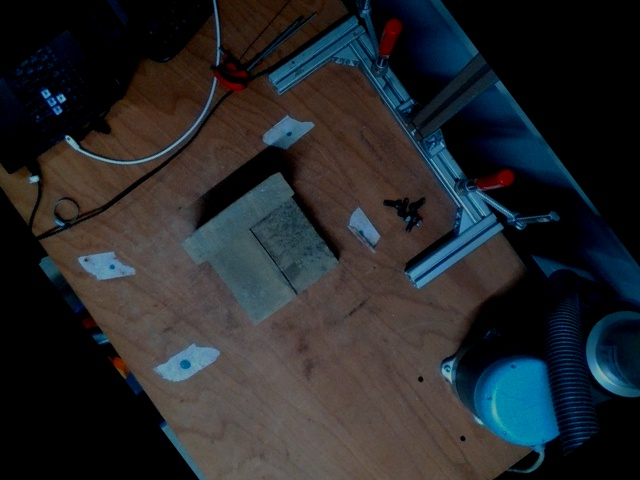brick-side: (179, 170, 293, 266)
